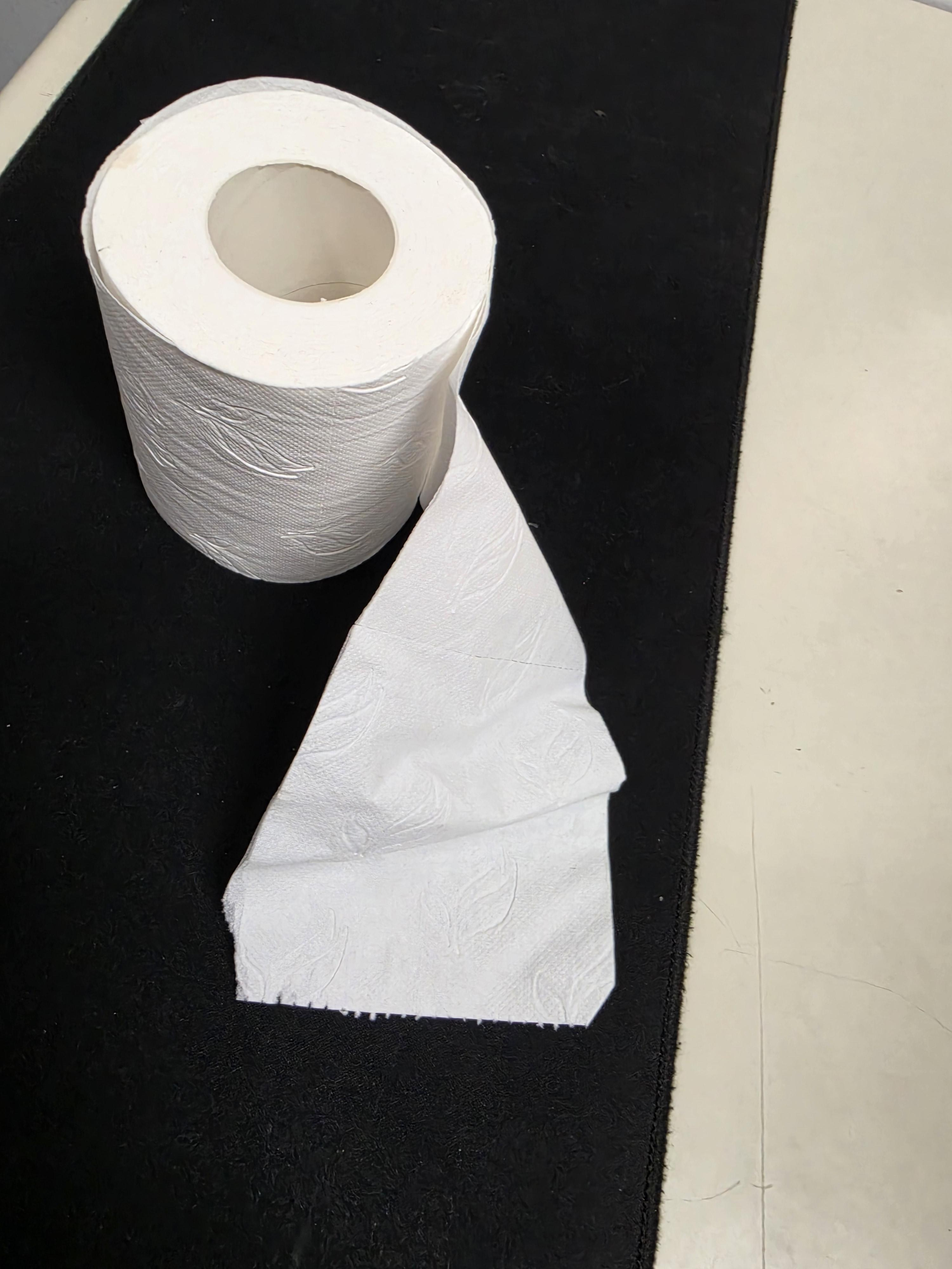tissue: (81, 76, 627, 1029)
